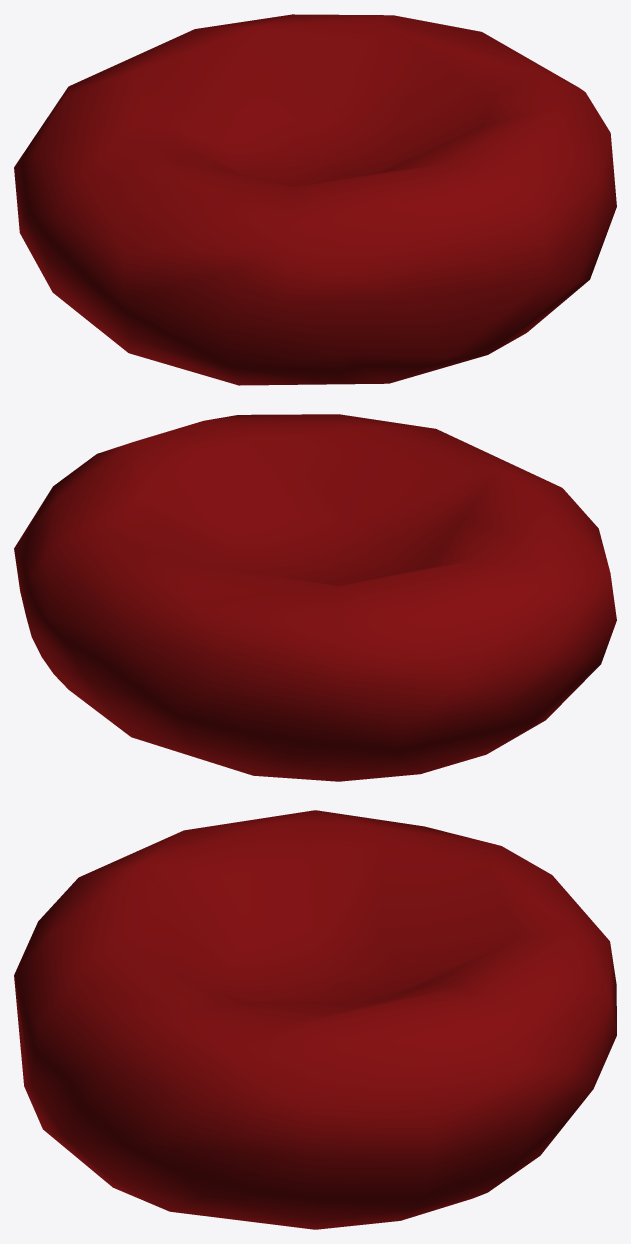
Rendered from bloodcell.fbx.
3 views of the same model, one above another, from view 1: azimuth 30°, elevation 25°; view 2: azimuth 150°, elevation 25°; view 3: azimuth 270°, elevation 25° (orthographic). The views are drawn at different scales.
Parts seen in each view (by area): view 1: redblood; view 2: redblood; view 3: redblood.
Boxes of the visible parts, bbox=[...] form: redblood: bbox=[14, 14, 616, 385]; redblood: bbox=[14, 414, 616, 781]; redblood: bbox=[14, 810, 616, 1229].
Bounding box in the file's own units: 5.24 × 1.98 × 4.67.
